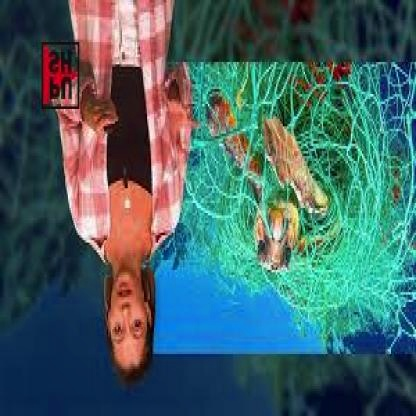net: (197, 62, 399, 322)
